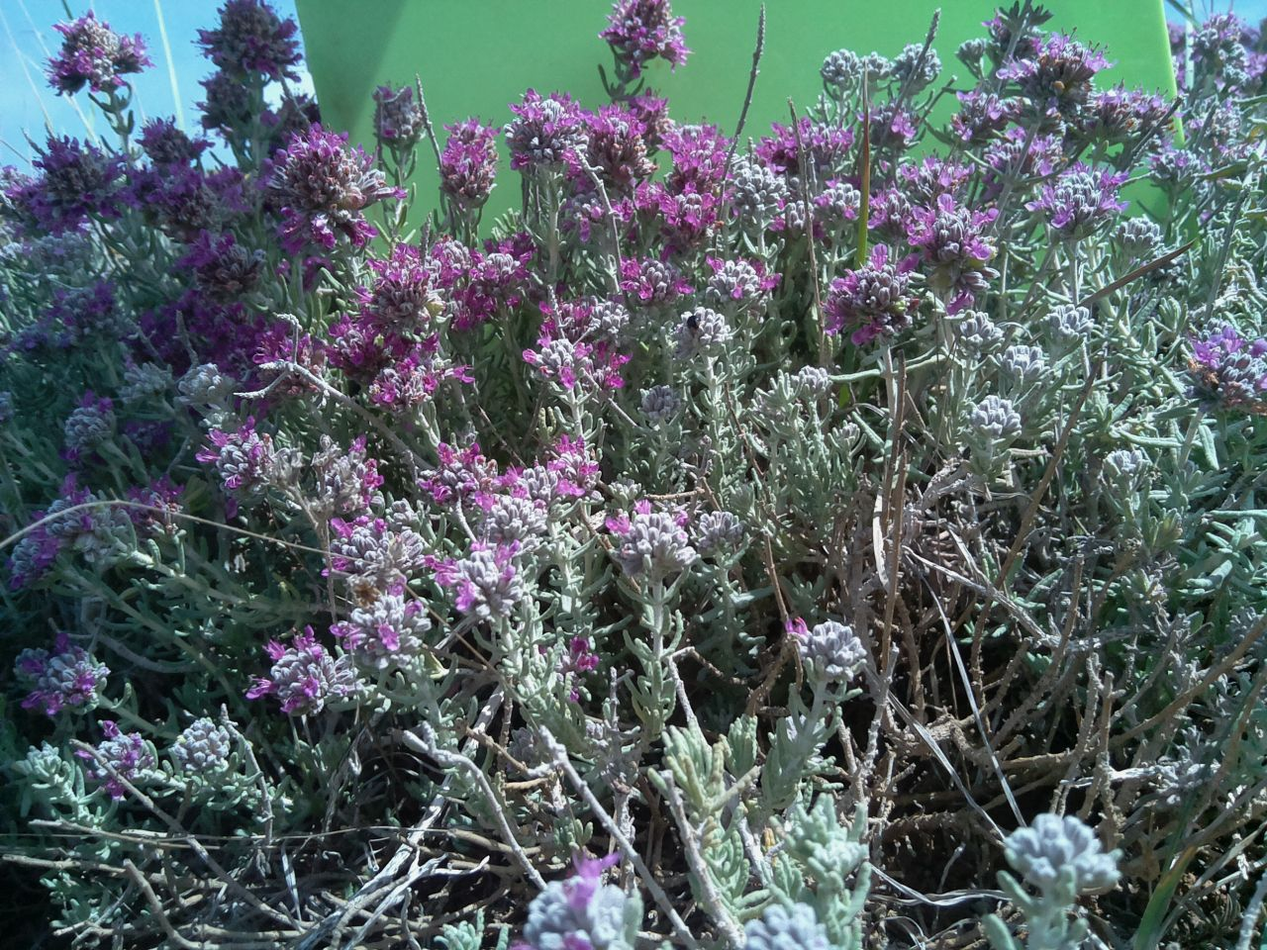Beetle: (678, 313, 706, 332)
